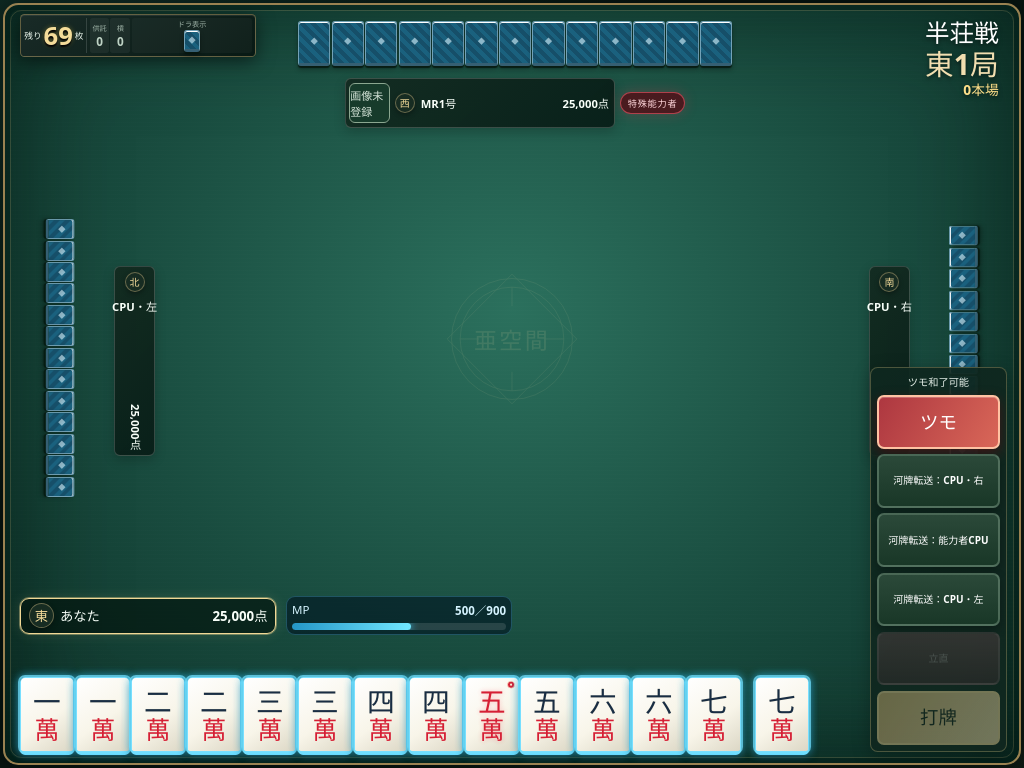
プレイヤースキル3-13の画面操作 › 指定相手へ発動してMPと発動状態を表示する
This screenshot has width=1024, height=768.
Click the button "河牌転送：能力者CPU" at (938, 540), box x1=877 y1=513 x2=1000 y2=567
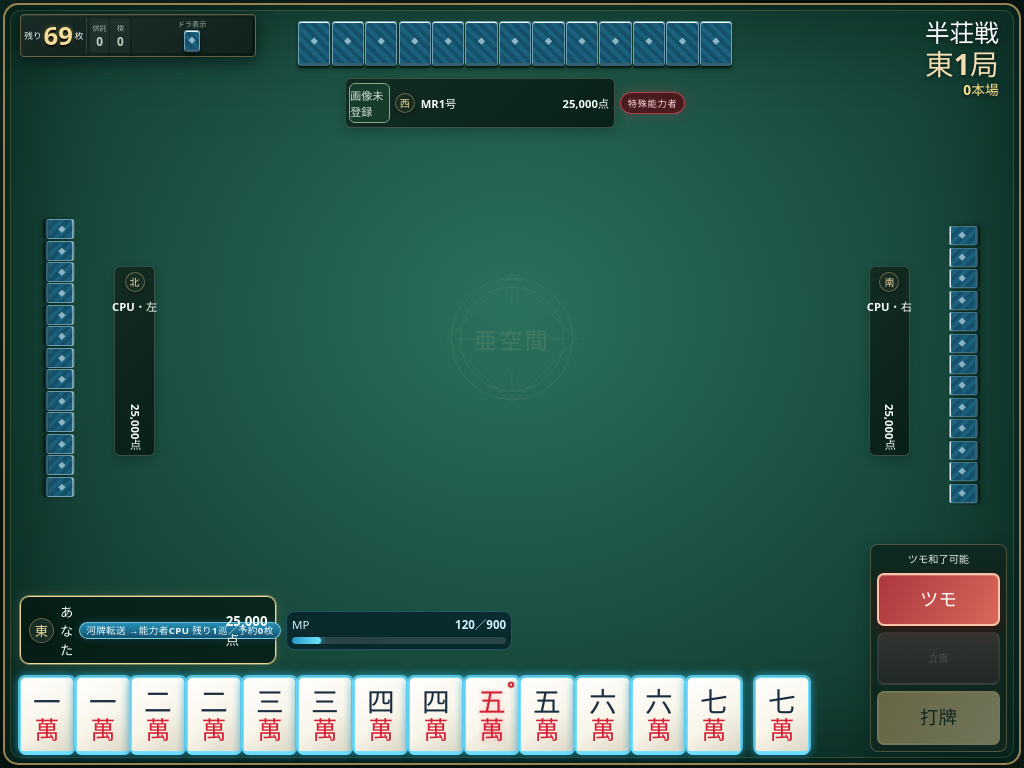
Result: no buttons "河牌転送：" are shown
